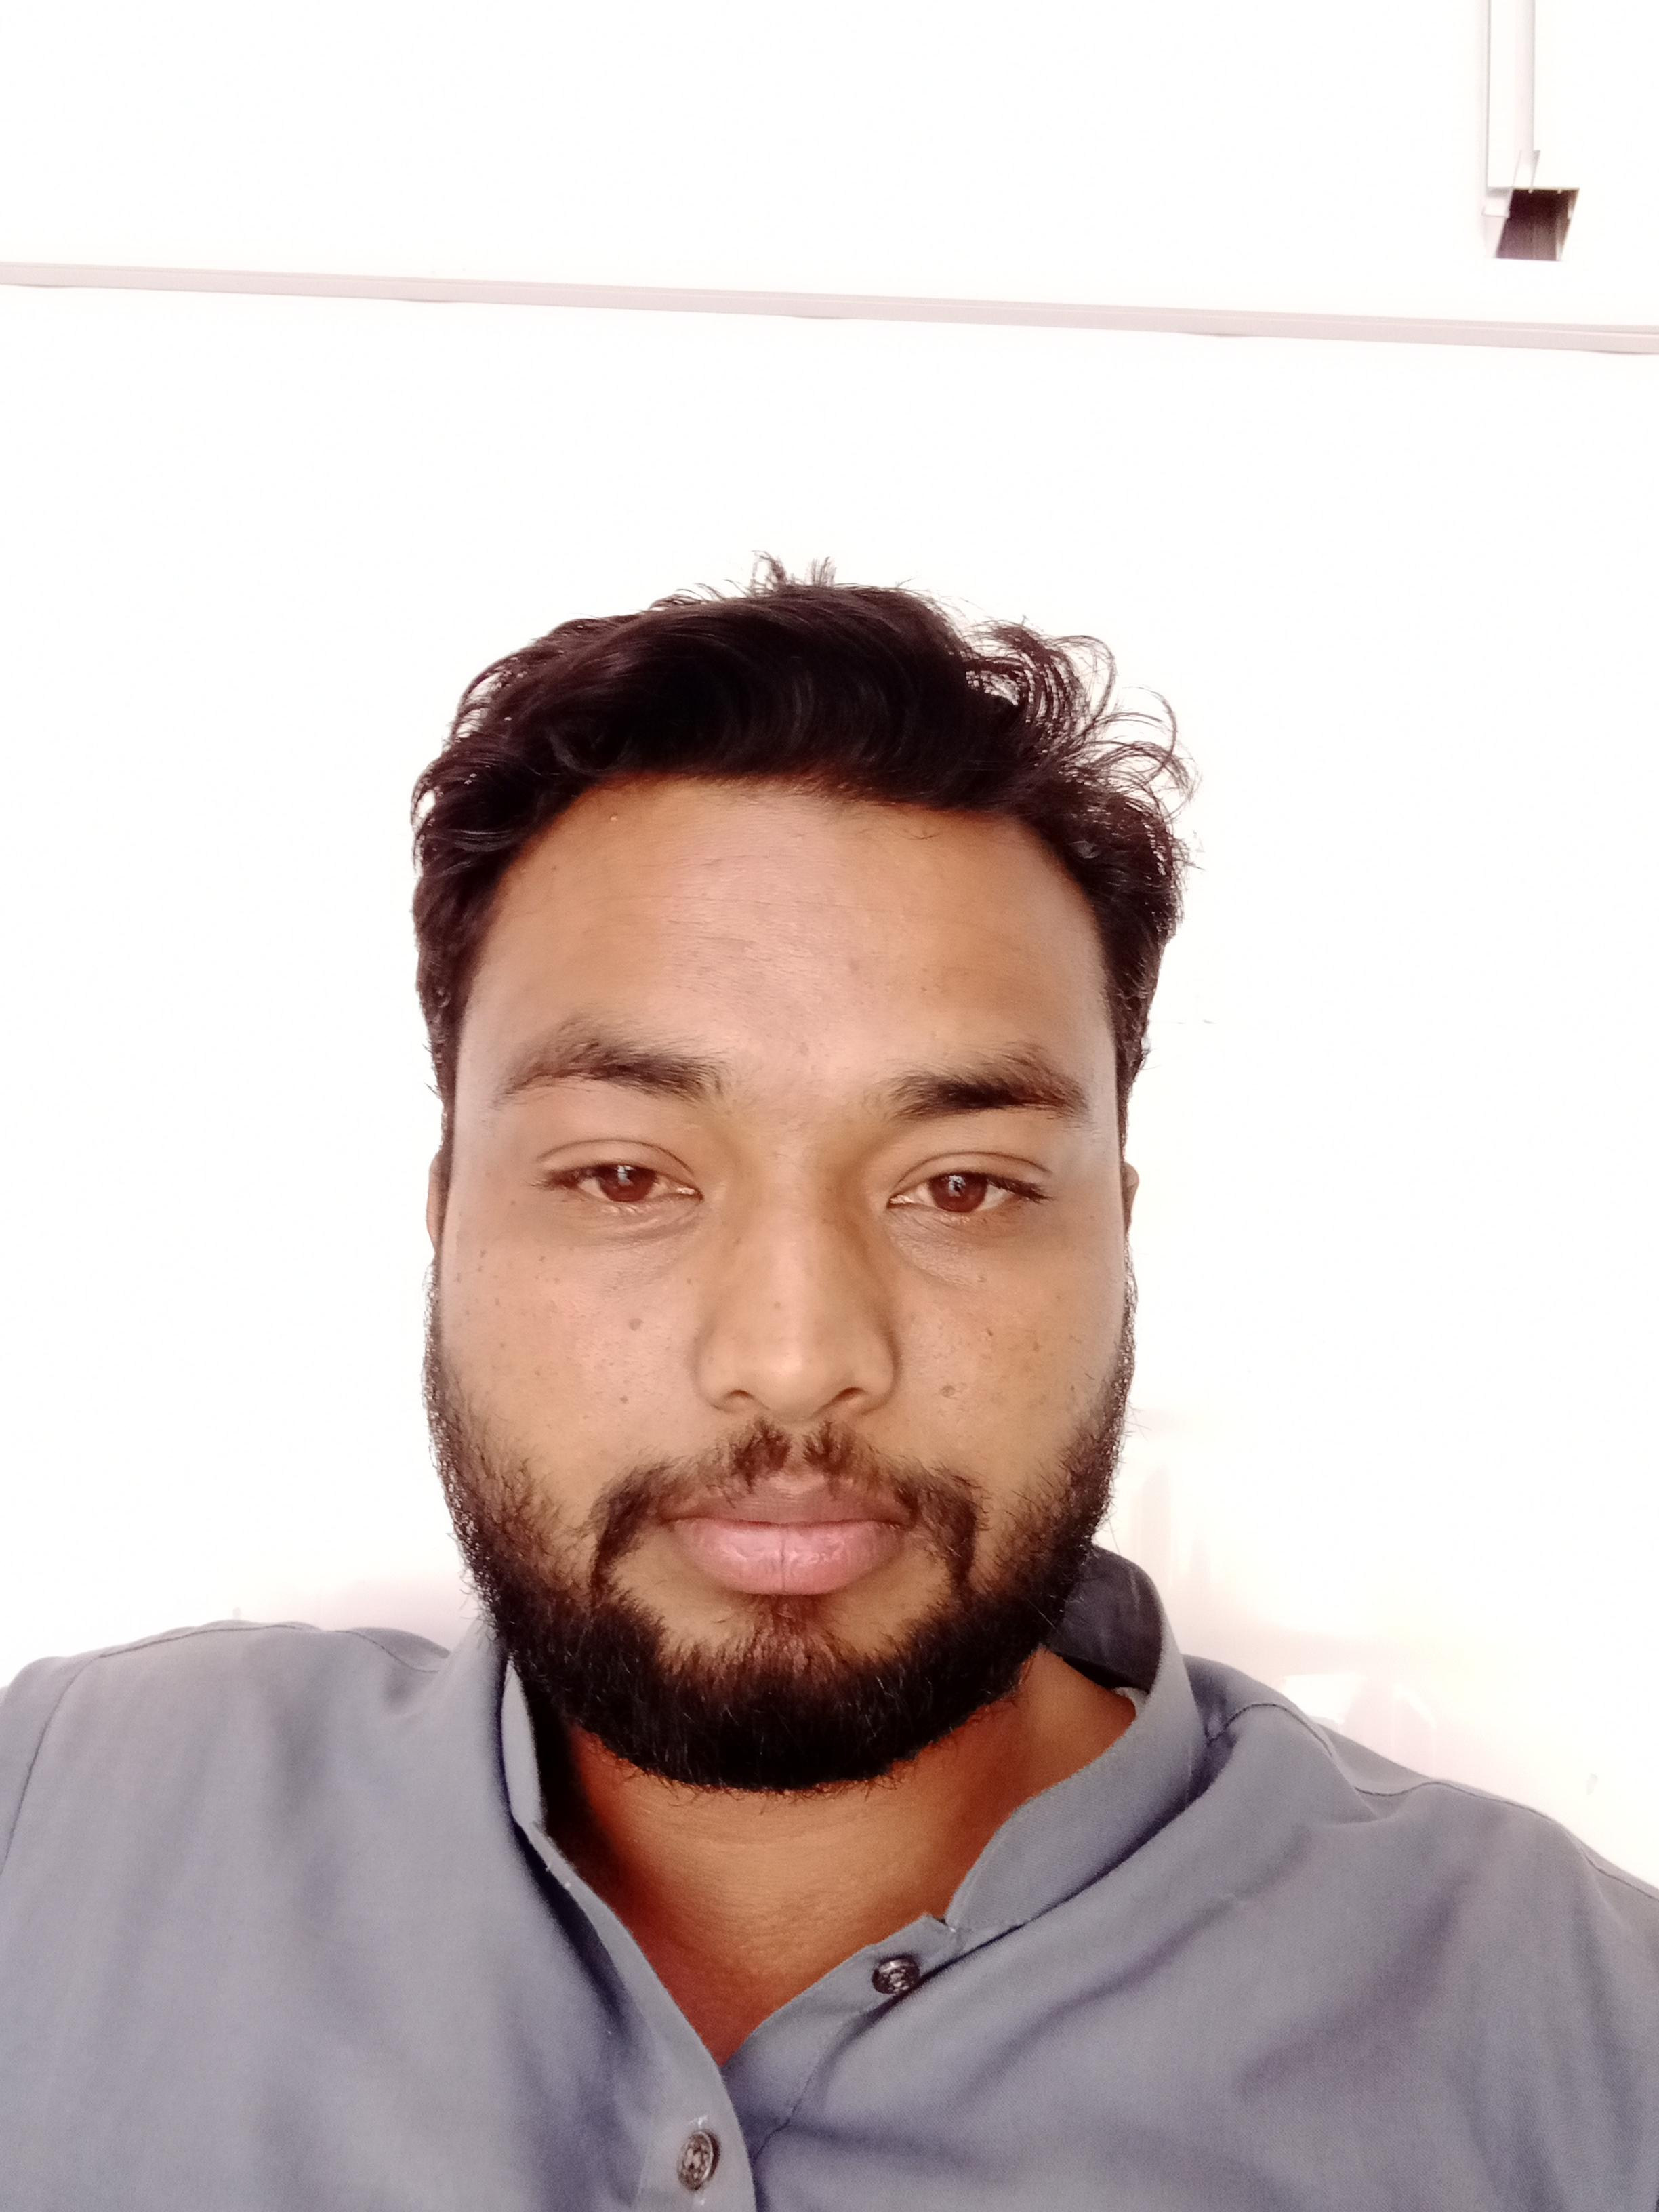Acne: (843, 942, 861, 986), (608, 799, 627, 831)
Blackheads: (934, 1378, 979, 1413), (530, 1266, 566, 1298), (471, 1244, 495, 1278), (763, 1289, 793, 1313), (624, 1317, 653, 1339), (619, 1388, 640, 1420), (1068, 1322, 1087, 1355), (1028, 1327, 1042, 1369), (685, 1271, 706, 1298), (488, 1338, 516, 1357), (772, 1141, 791, 1169), (983, 1322, 999, 1355), (530, 1247, 556, 1266), (453, 1266, 474, 1289), (725, 1237, 756, 1251), (526, 1362, 544, 1386), (1075, 1369, 1098, 1386), (491, 1292, 507, 1317), (910, 1306, 925, 1331), (972, 1266, 988, 1289), (505, 1190, 518, 1212), (462, 1306, 477, 1322)
